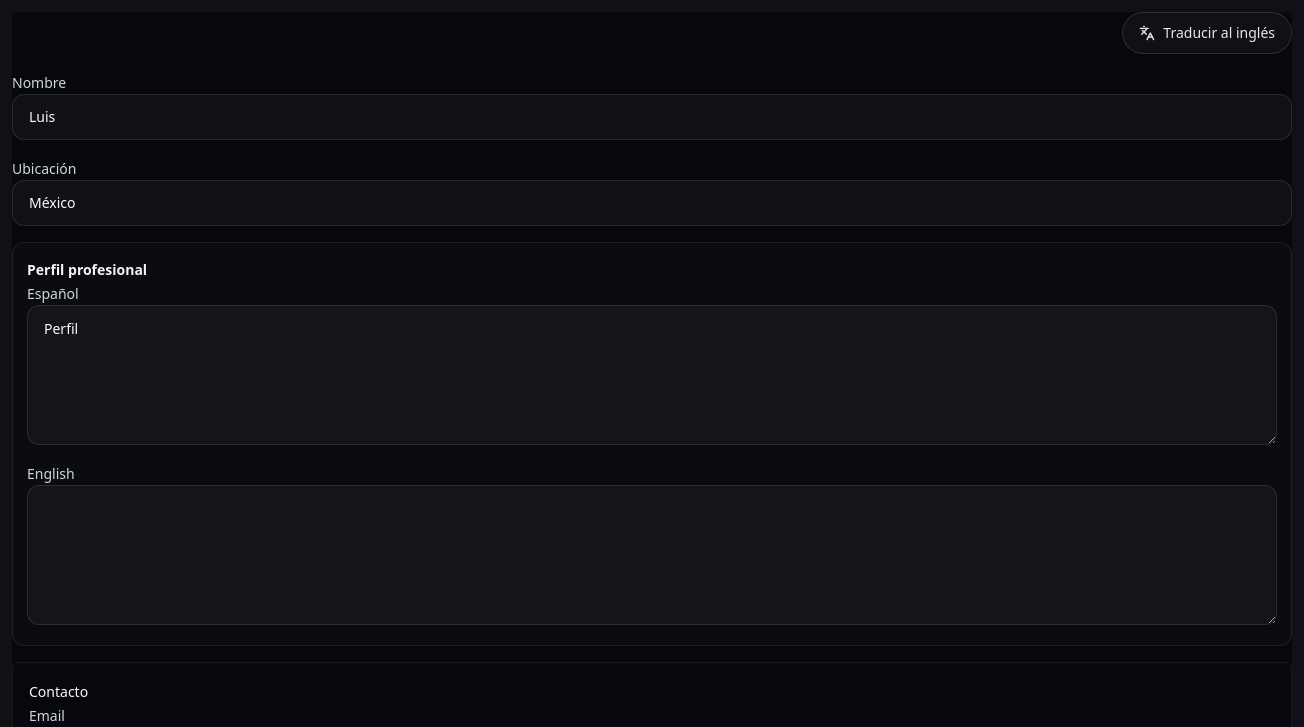
ProfileForm › rellena el resumen en inglés al traducir
This screenshot has width=1304, height=727.
Click the button "Traducir al inglés".
click(1207, 33)  # box [1122, 12, 1292, 54]
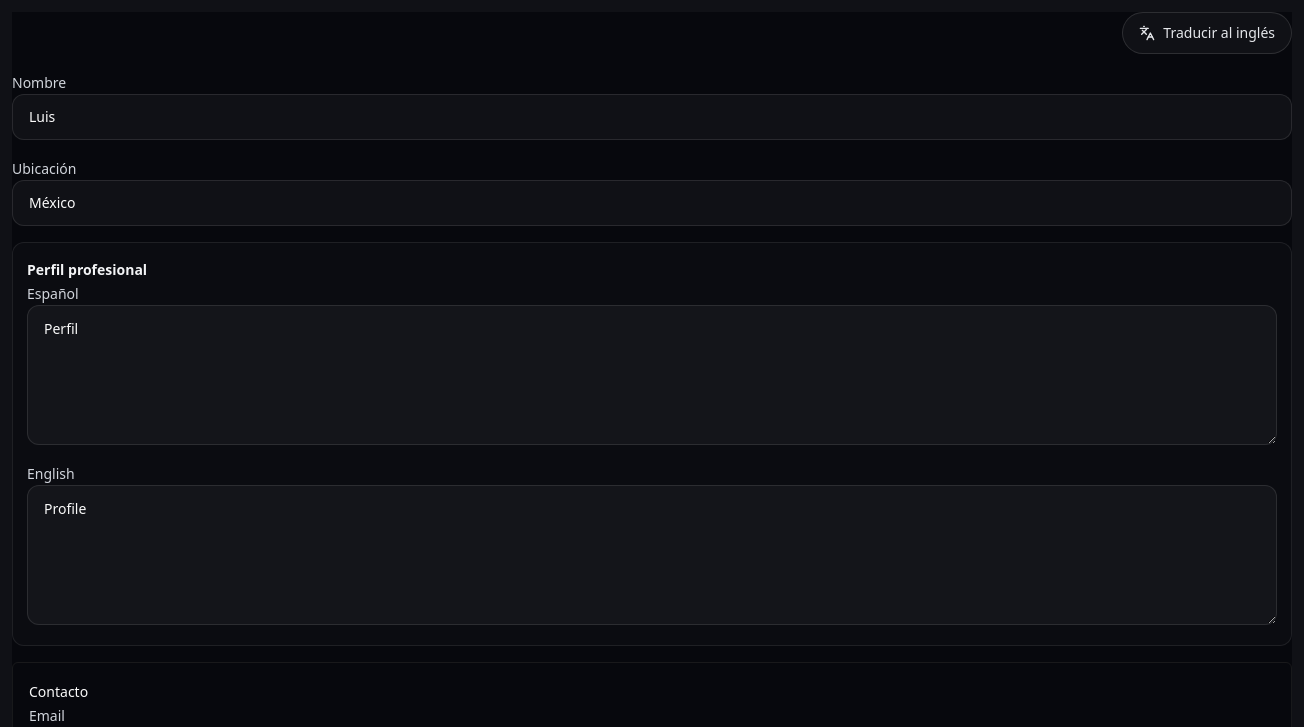
Result: the text box showing "Profile" is shown at [27, 485, 1277, 625]
